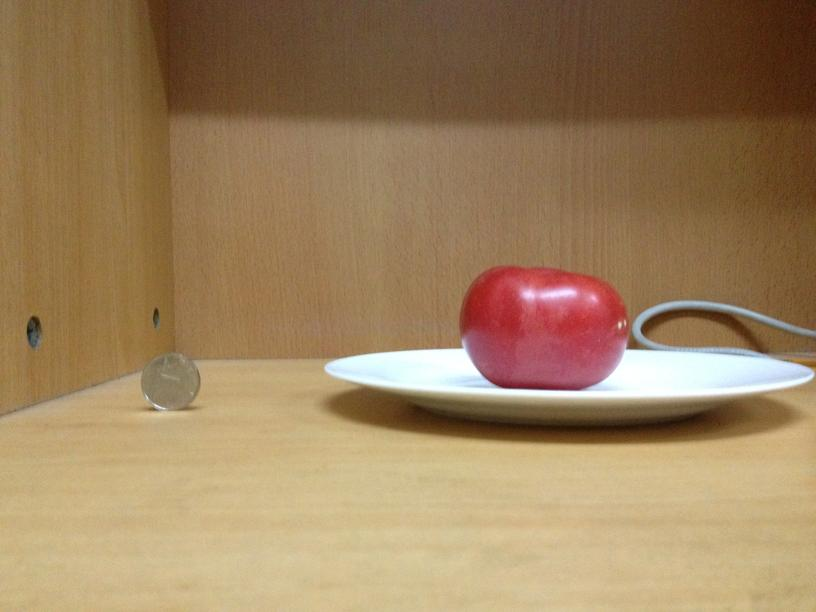coin: (136, 351, 203, 414)
tomato: (453, 260, 633, 392)
